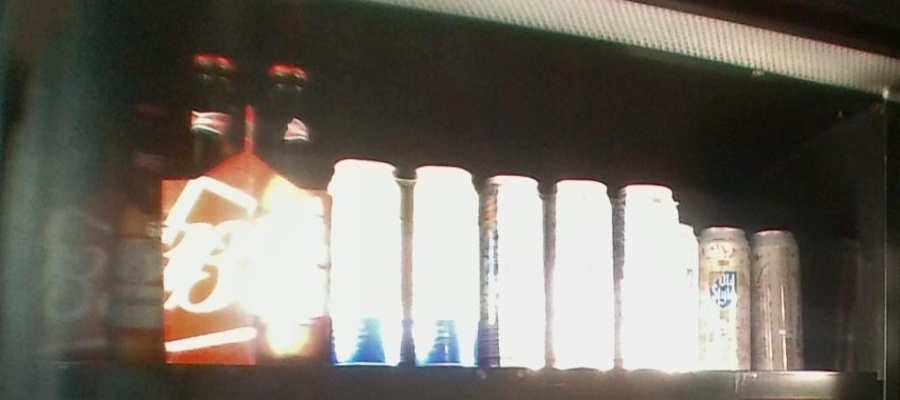bottle: (166, 53, 334, 368), (484, 163, 683, 374), (37, 91, 162, 364), (337, 155, 483, 367), (684, 223, 808, 375)
